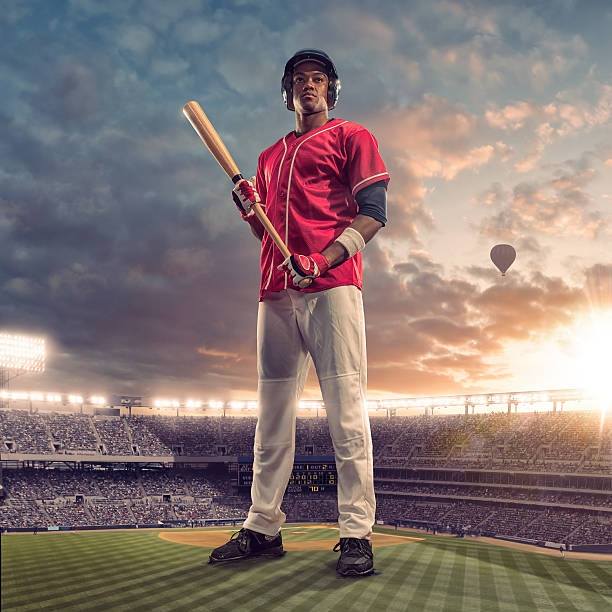bita: (183, 100, 304, 280)
